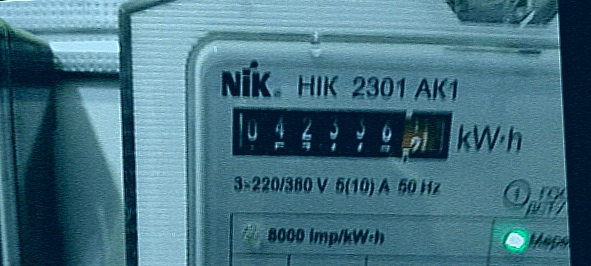0: (243, 116, 257, 146)
2: (295, 116, 314, 144)
3: (322, 114, 339, 144), (351, 114, 366, 143)
4: (269, 116, 286, 144)
6: (376, 119, 392, 147)
screen: (217, 90, 461, 182)
